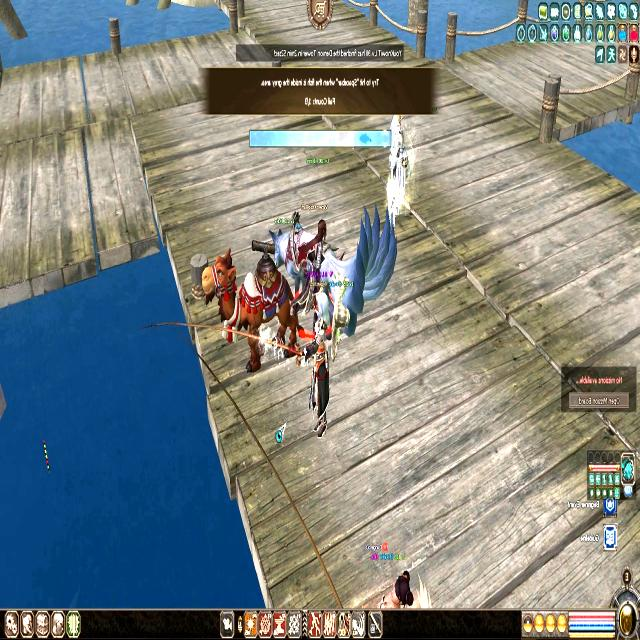fishes: (358, 132, 372, 146)
